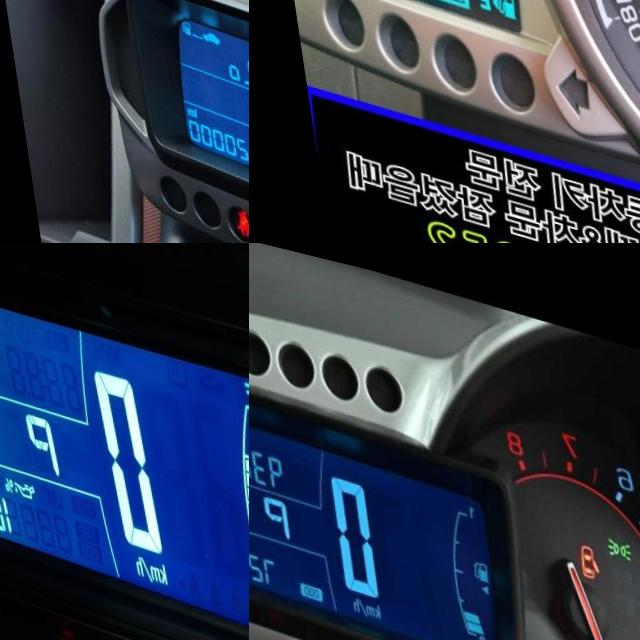Doors: (570, 517, 596, 557)
SideLamp: (599, 508, 628, 536)
